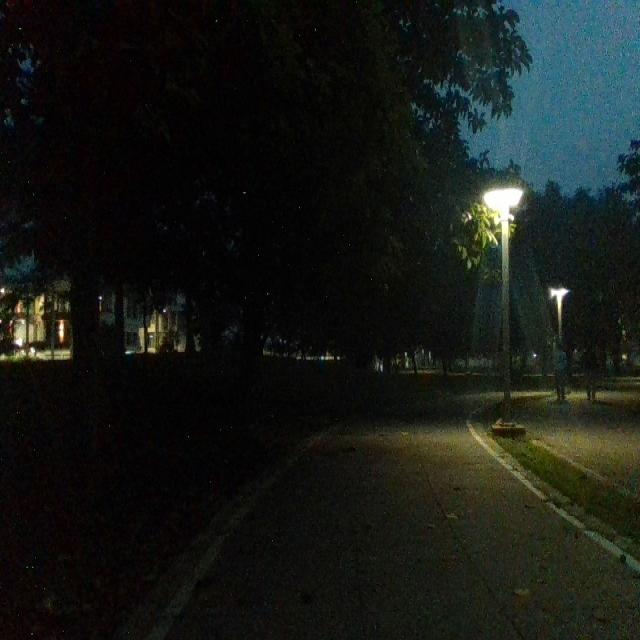lane: (174, 423, 640, 640)
